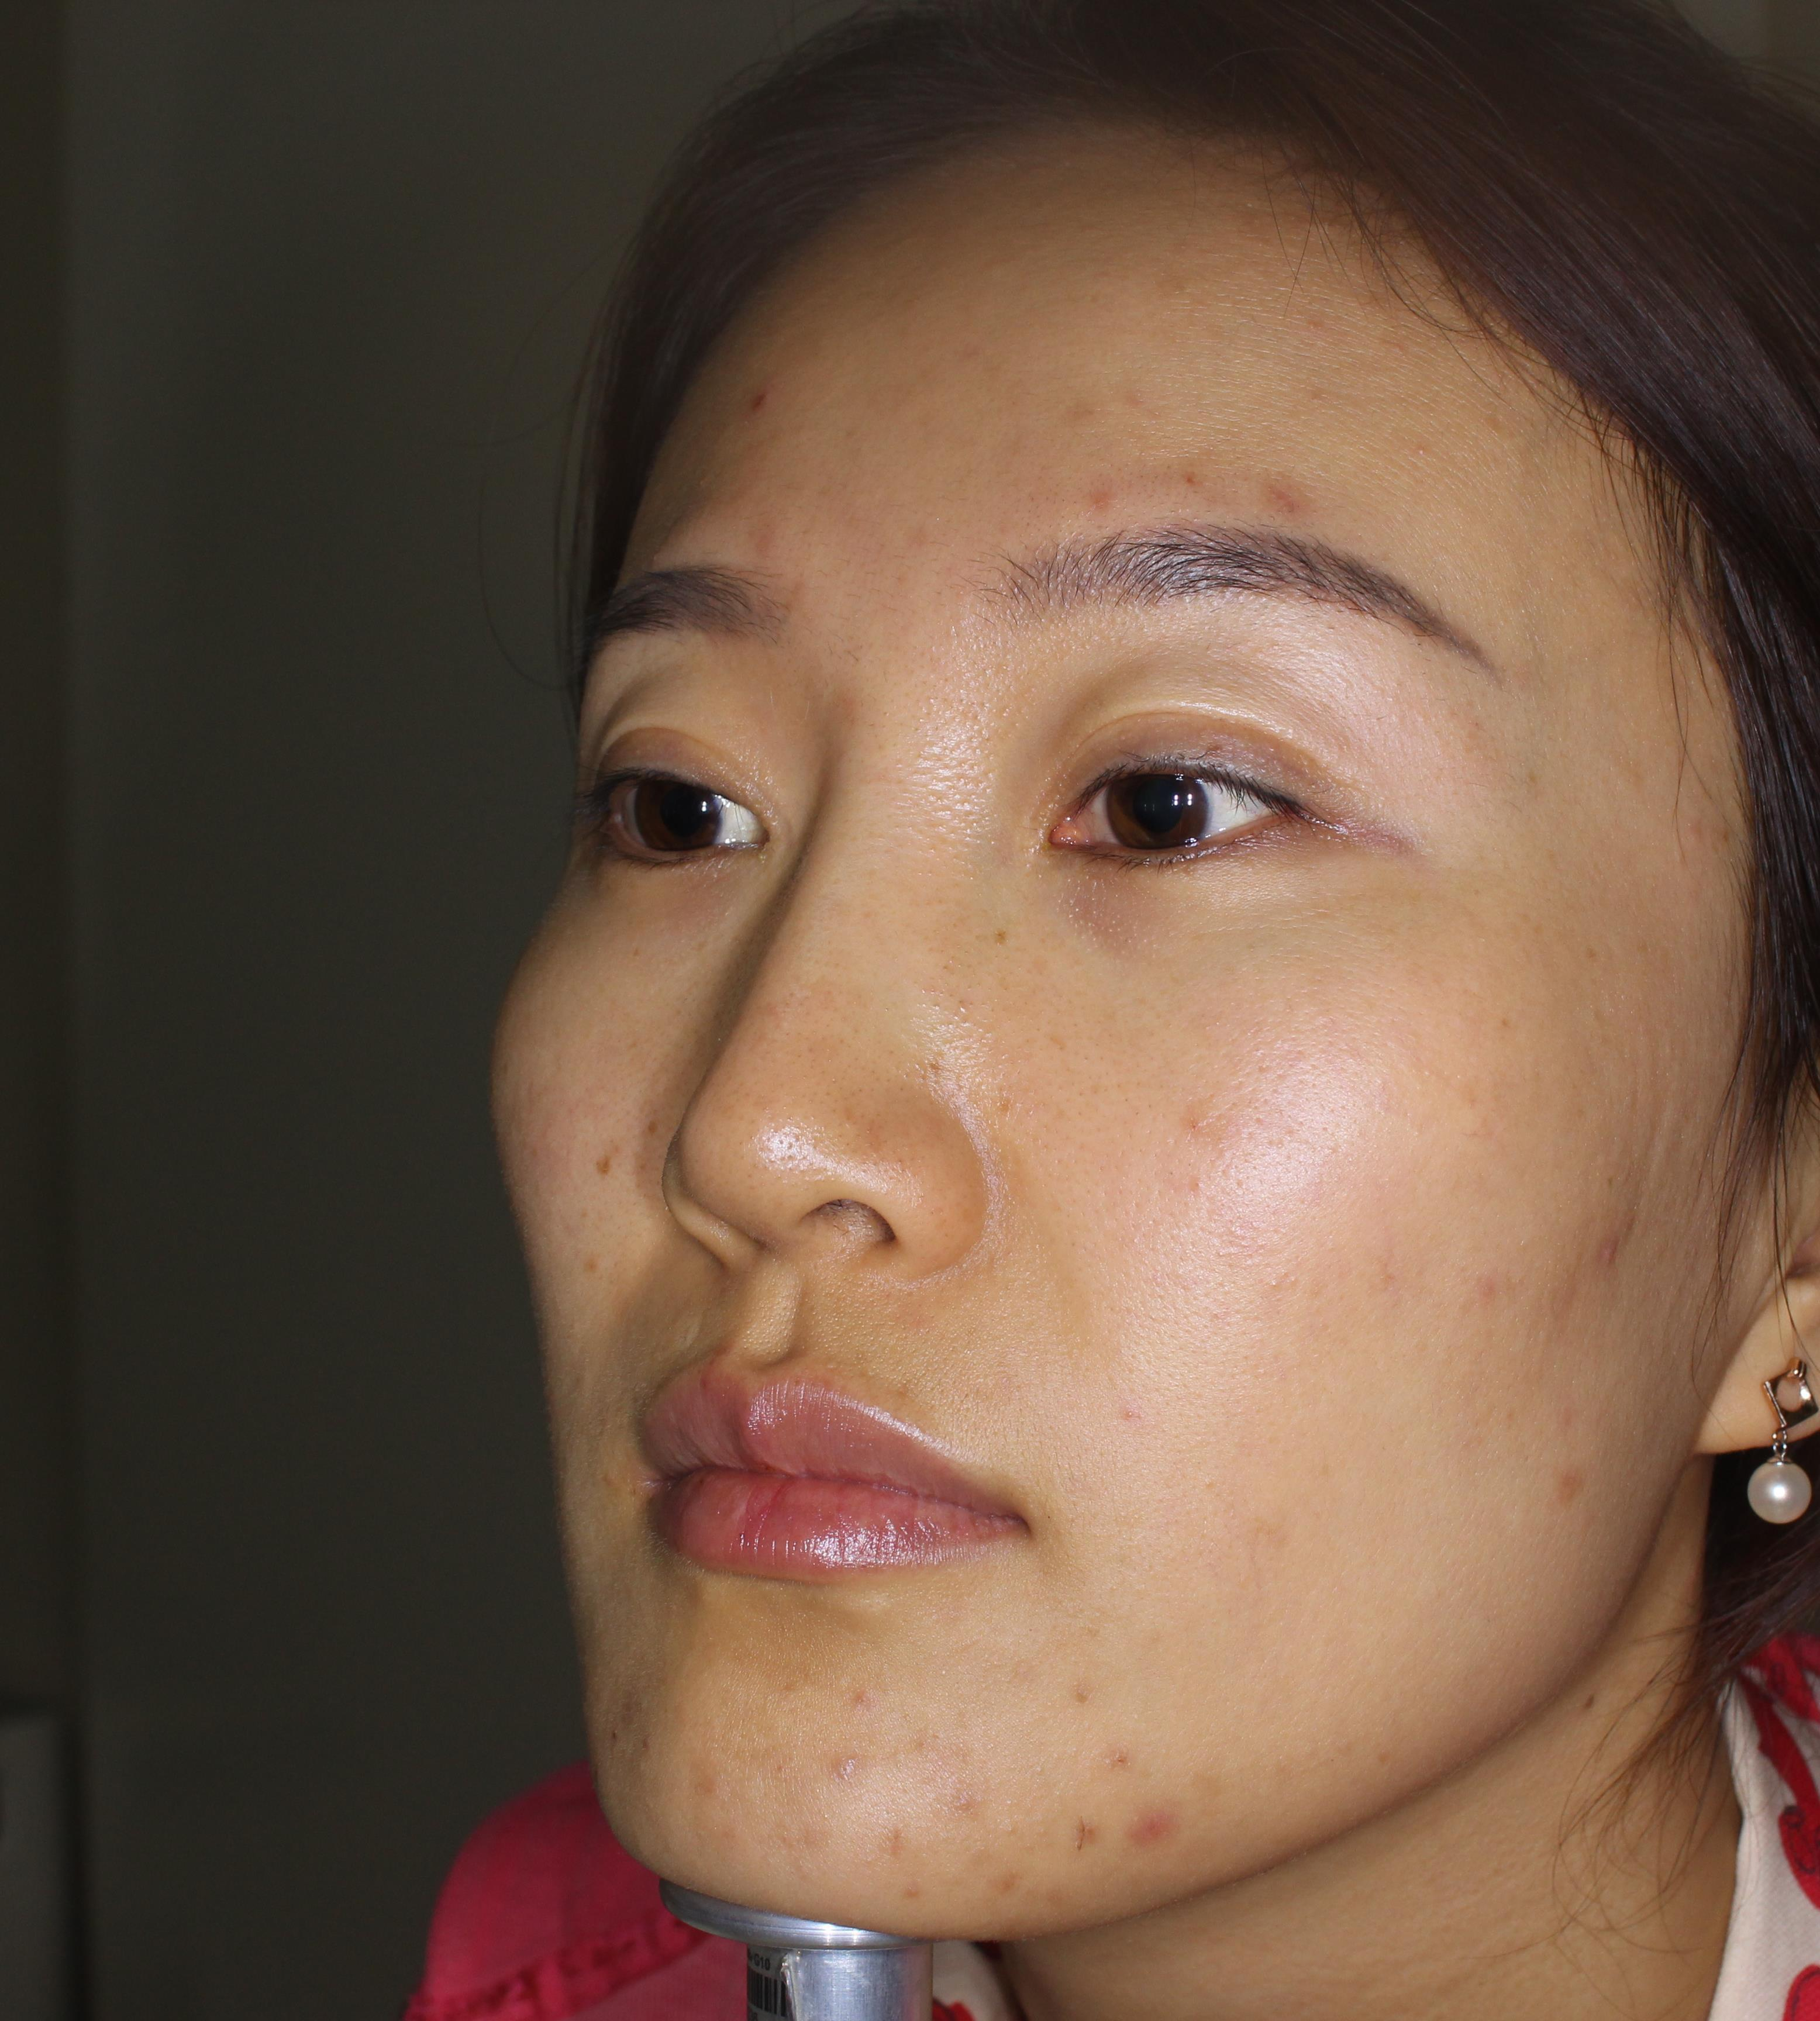fore: (1525, 1419, 1632, 1545), (1112, 1786, 1210, 1903), (1072, 1710, 1175, 1800), (1565, 1182, 1641, 1303), (1242, 465, 1354, 541), (817, 1733, 889, 1809), (1068, 455, 1138, 523)
